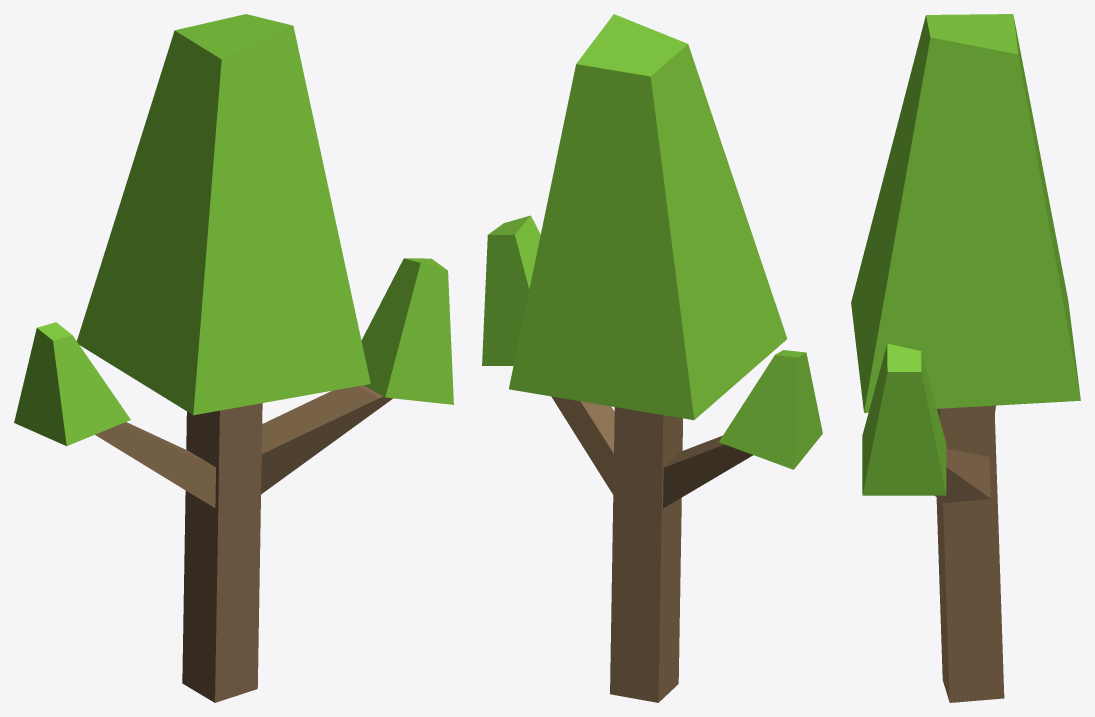
The model's file is tree2.fbx.
3 renders of one model, left to right at view 1: azimuth 30°, elevation 25°; view 2: azimuth 150°, elevation 25°; view 3: azimuth 270°, elevation 25°, orthographic. The views are drawn at different scales.
Parts seen in each view (by area): view 1: Plane; view 2: Plane; view 3: Plane.
Boxes of the visible parts, bbox=[...] form: Plane: bbox=[14, 14, 453, 702]; Plane: bbox=[482, 14, 822, 702]; Plane: bbox=[851, 14, 1080, 702].
Size of the model in its own units: 1030 by 1788 by 549.
